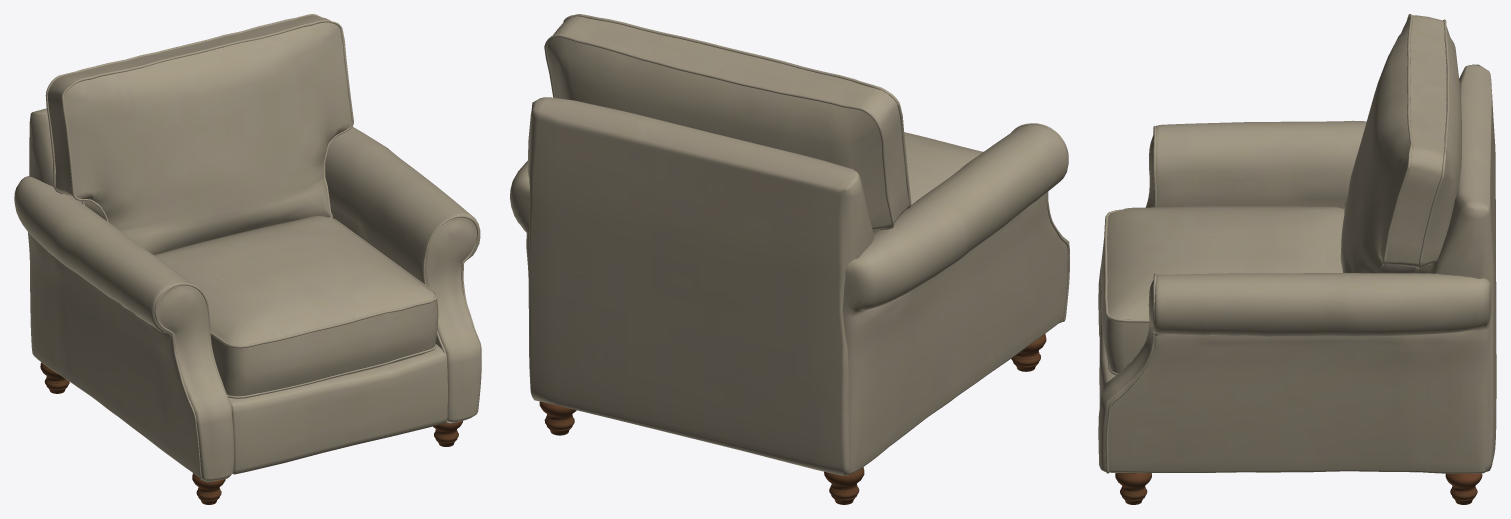
Rendered from abo-B07P5LN3D6.glb.
The picture shows the model from 3 angles, left to right: view 1: azimuth 30°, elevation 25°; view 2: azimuth 150°, elevation 25°; view 3: azimuth 270°, elevation 25°; orthographic projection. The views are drawn at different scales.
Bounding box in the file's own units: 1.03 × 0.967 × 0.966.
Materials: 1 (1 with a texture image).
